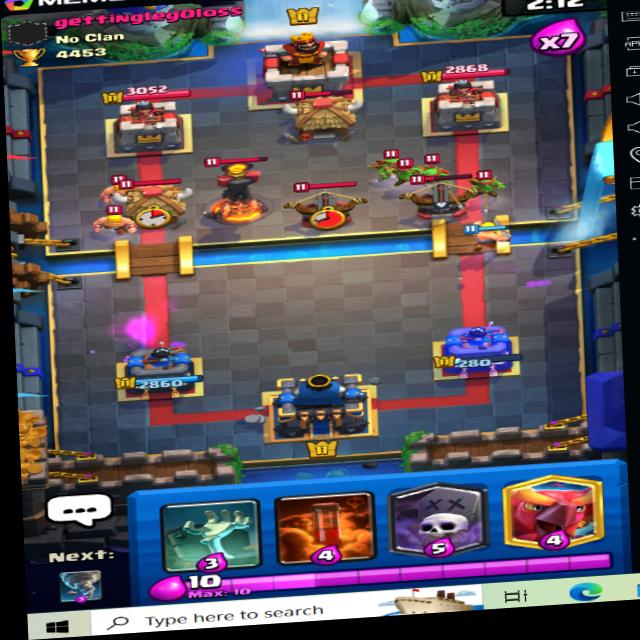barbarian: (88, 200, 150, 237), (88, 173, 147, 208)
goblin-hut: (106, 173, 193, 231), (282, 85, 365, 141)
inferno-tower: (189, 145, 280, 230)
spear-goblin: (414, 153, 453, 191), (464, 173, 502, 209), (395, 155, 421, 186), (375, 152, 402, 180)
x-bow: (401, 160, 485, 222), (281, 171, 364, 229)
